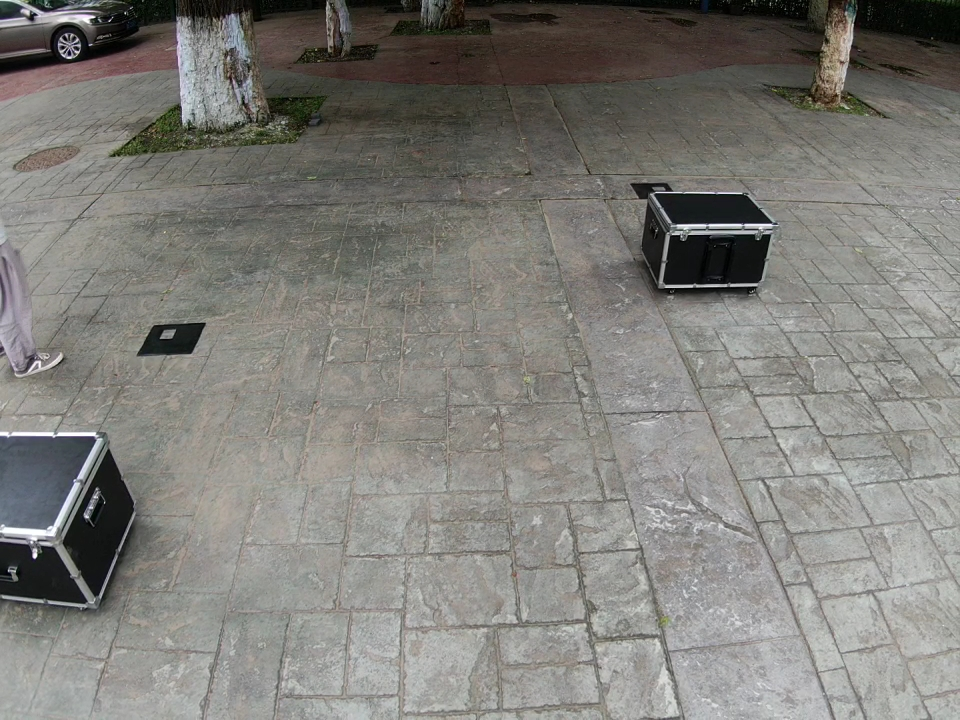box: (1, 432, 135, 609), (641, 192, 778, 289)
qrcode: (137, 323, 206, 356), (630, 183, 675, 198)
